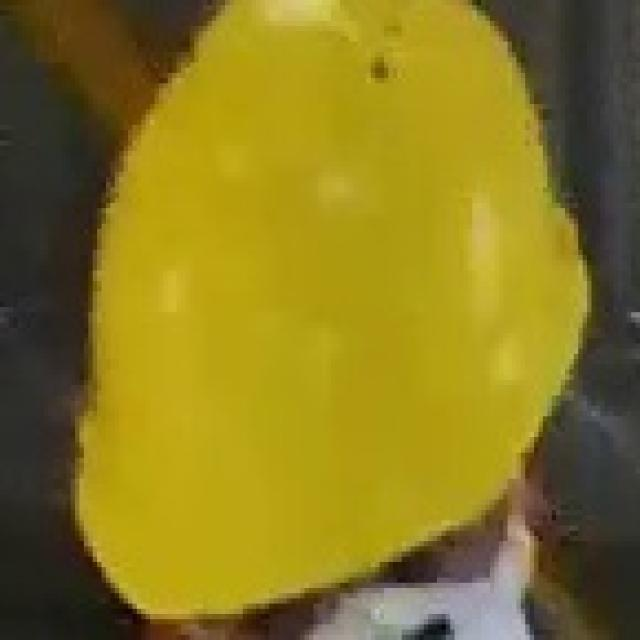yellow helmet: (71, 1, 597, 623)
